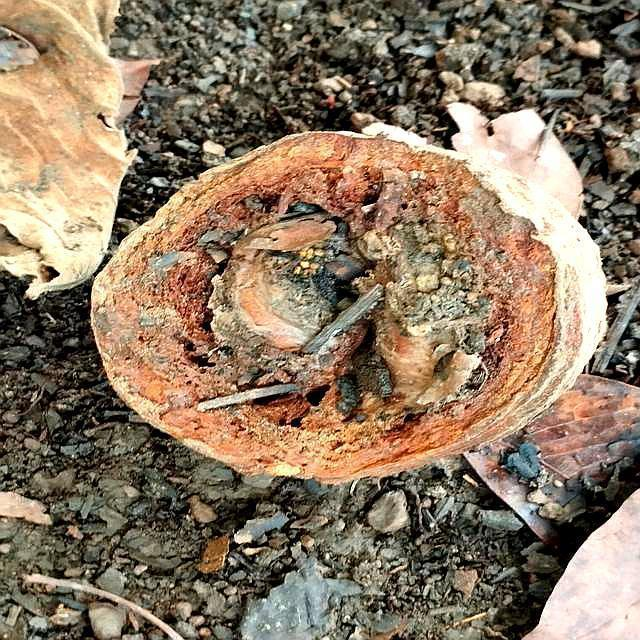Biodegradable: (87, 132, 579, 485)
